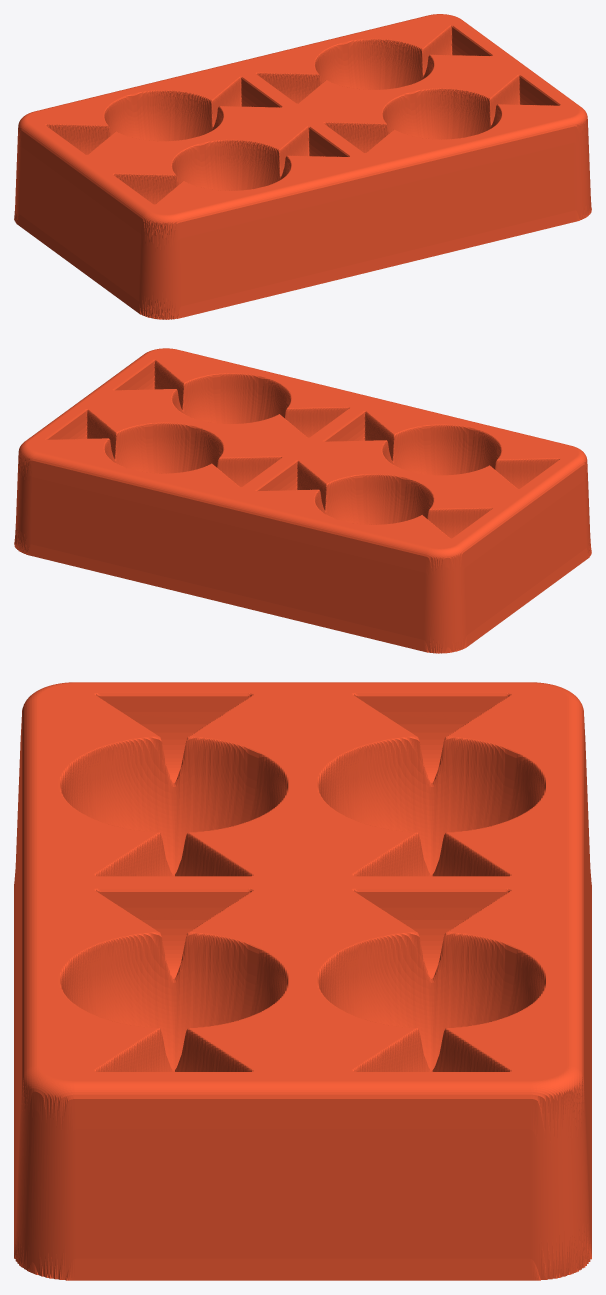
Rendered from mold.glb.
3 renders of one model, top to bottom at view 1: azimuth 30°, elevation 25°; view 2: azimuth 150°, elevation 25°; view 3: azimuth 270°, elevation 25°, orthographic. The views are drawn at different scales.
Visible parts, largest first — view 1: geometry_0; view 2: geometry_0; view 3: geometry_0.
Boxes of the visible parts, <box> form: geometry_0: <box>14,14,591,319</box>; geometry_0: <box>14,348,591,653</box>; geometry_0: <box>14,682,591,1280</box>.
Size of the model in its own units: 0.1466 by 0.031 by 0.0857.
